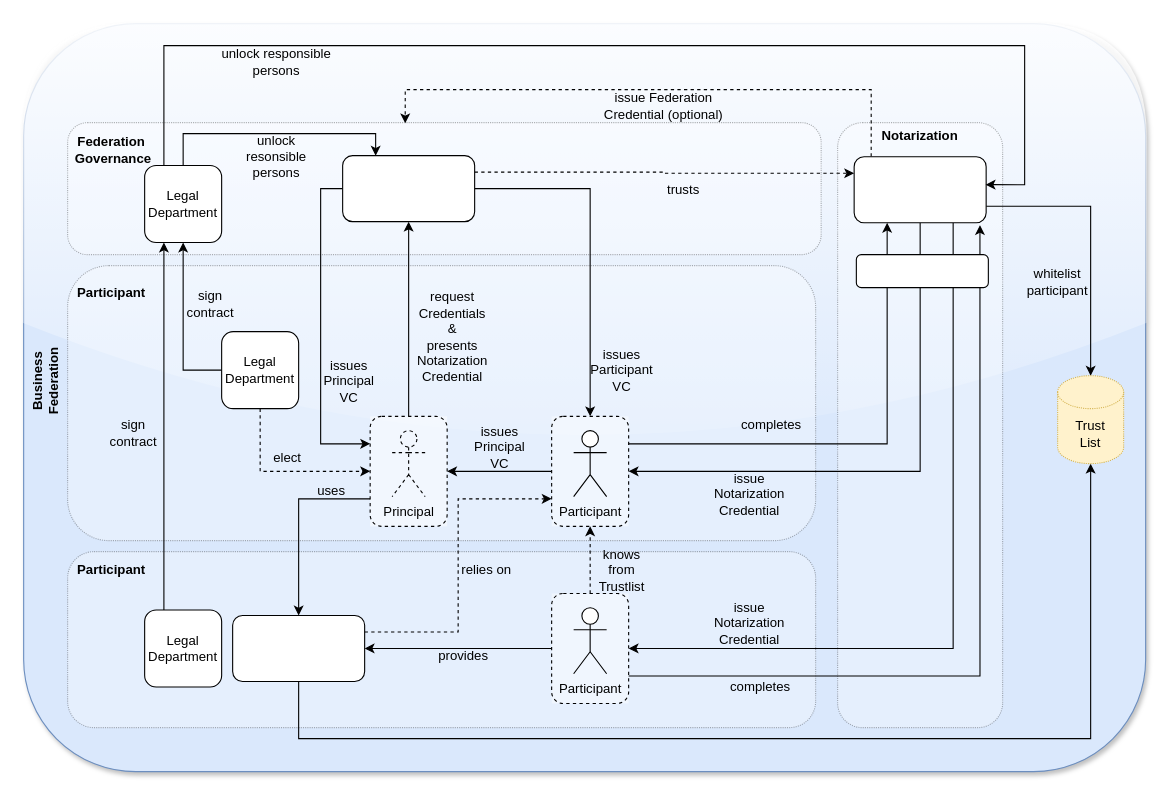
Some shapes in this 1172 by 799 pixel diagram are drawn without their labels. Each missing label, with the centre of its shape:
"Compliance Process" goes at point (921, 271).
"Issuance Service" goes at point (408, 188).
"Onboarding Office" goes at point (919, 189).
"Services" goes at point (298, 647).
